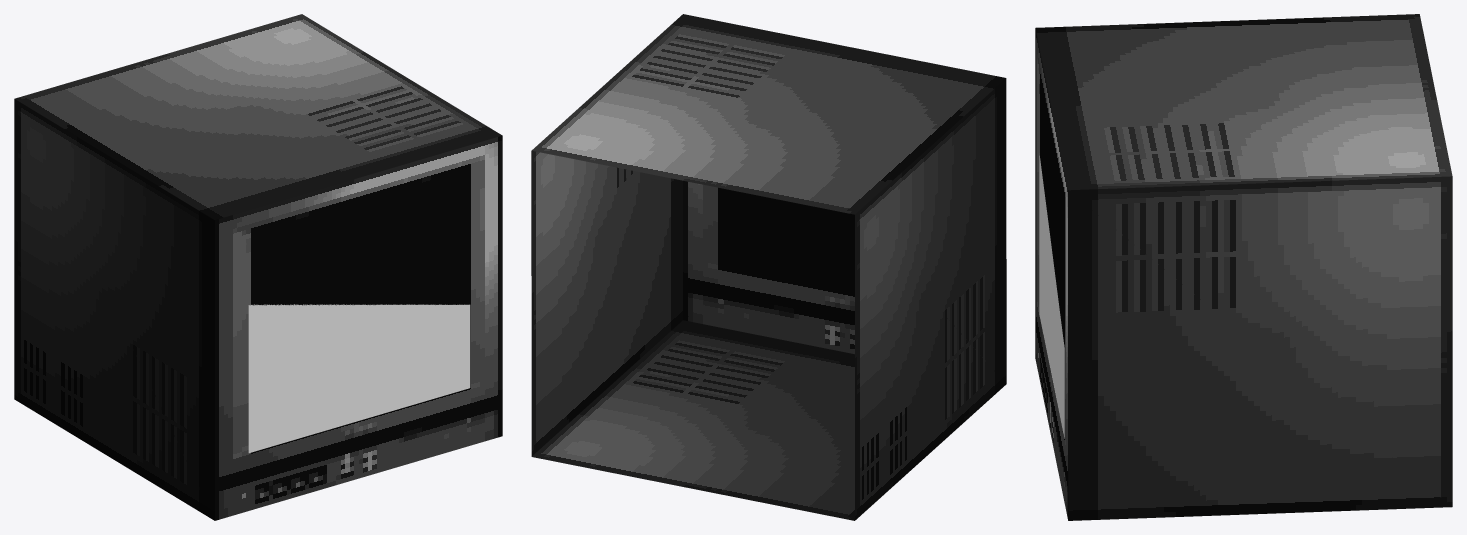
File: primary_009.glb
3 renders of one model, left to right at view 1: azimuth 30°, elevation 25°; view 2: azimuth 150°, elevation 25°; view 3: azimuth 270°, elevation 25°, orthographic. The views are drawn at different scales.
Parts seen in each view (by area): view 1: Object; view 2: Object; view 3: Object.
Boxes of the visible parts, x1=… form: Object: x1=14, y1=14, x2=502, y2=520; Object: x1=531, y1=14, x2=1006, y2=520; Object: x1=1035, y1=14, x2=1452, y2=520.
Size of the model in its own units: 0.499 by 0.4366 by 0.4991.
Materials: 7 (7 with a texture image).
